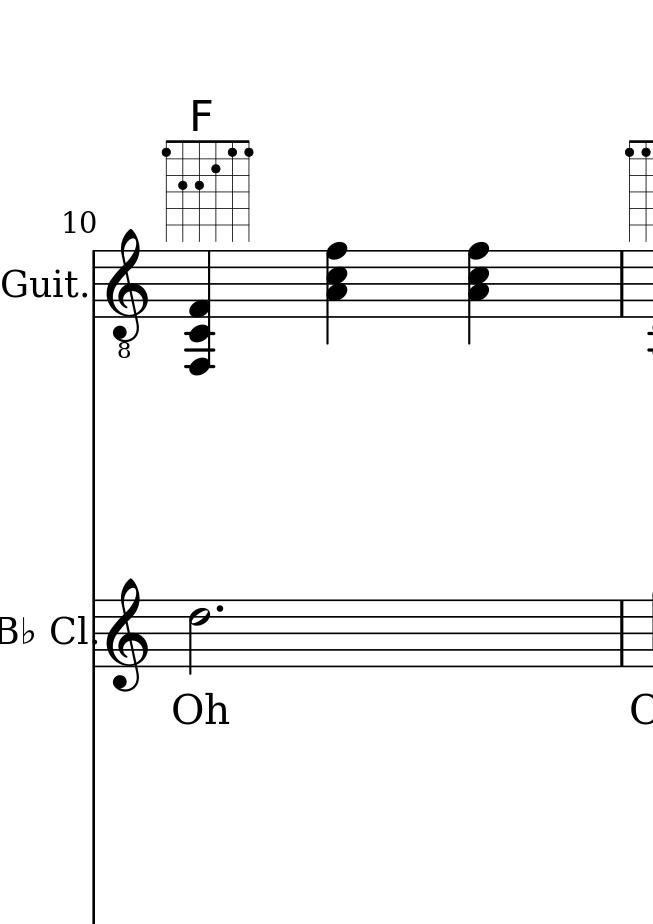0: (78, 207, 96, 238)
1: (63, 208, 76, 237)
2_6: (187, 598, 214, 677)
4_th: (185, 251, 219, 377), (323, 240, 348, 343), (466, 240, 490, 346)
Cl: (48, 609, 87, 648)
Fretboard: (161, 137, 257, 246)
Gclef: (104, 576, 153, 693)
Guit: (1, 264, 81, 307)
Lower_Gclef: (106, 230, 150, 363)
Single_barline: (616, 599, 631, 669), (87, 596, 101, 669), (615, 250, 630, 318), (88, 248, 102, 319)
dot: (211, 598, 227, 620), (214, 602, 225, 612)
